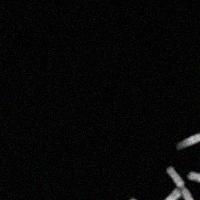chromosome: (167, 165, 200, 200), (175, 116, 200, 150), (162, 188, 180, 200), (187, 172, 200, 185), (130, 199, 155, 200)
